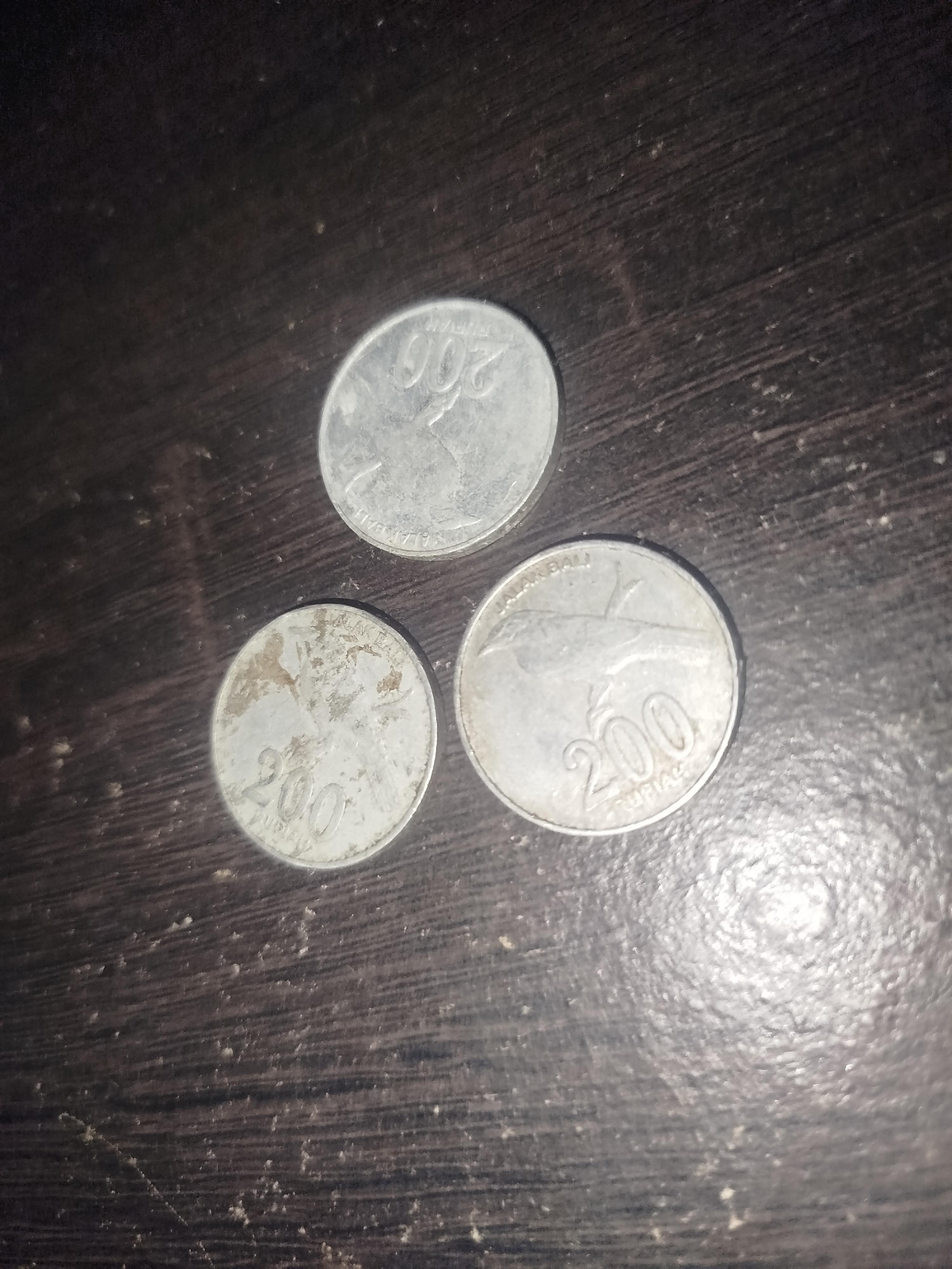coin_200_e2003: (457, 532, 744, 840), (319, 289, 568, 558), (208, 595, 444, 877)
